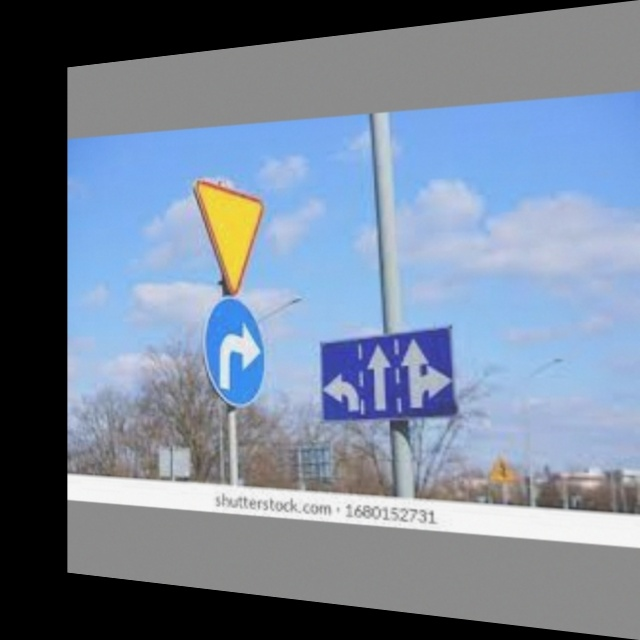Compulsory_Ahead_or_Turn_Right: (393, 319, 456, 428)
